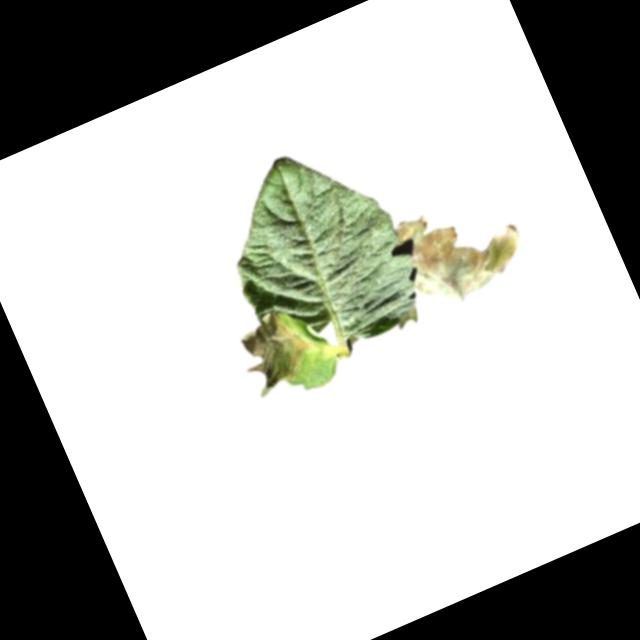Late_blight: (387, 180, 536, 318), (230, 303, 321, 399)
healthy: (198, 125, 434, 379)
